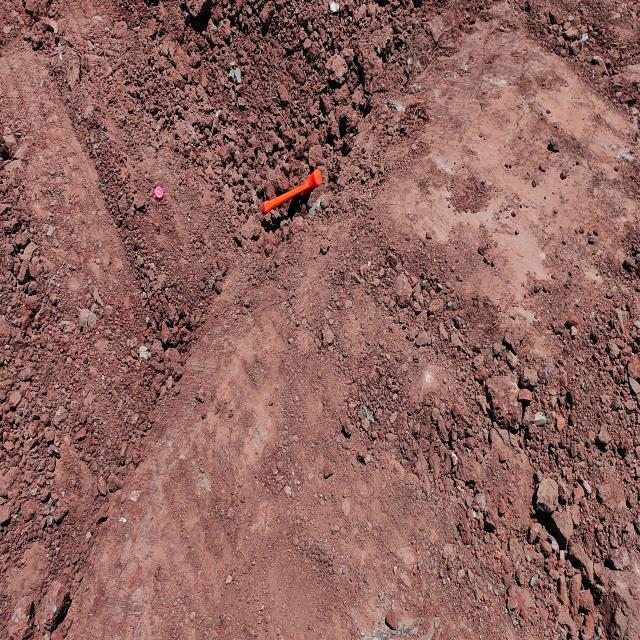Orange_hammer: (260, 168, 322, 216)
